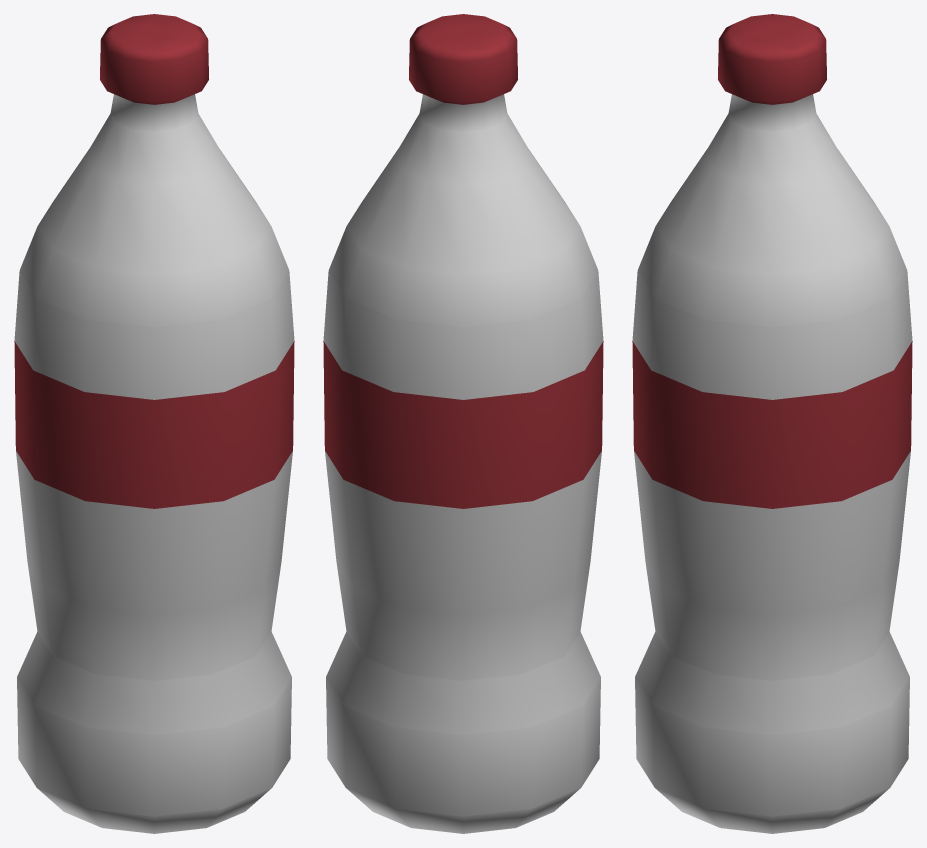
The model's file is CocaCola.fbx.
3 views of the same model, side by side, from view 1: azimuth 30°, elevation 25°; view 2: azimuth 150°, elevation 25°; view 3: azimuth 270°, elevation 25° (orthographic).
Visible parts, largest first — view 1: CocaLiquido; view 2: CocaLiquido; view 3: CocaLiquido.
Part boxes in pixels (<box>): CocaLiquido: <box>14,14,294,833</box>; CocaLiquido: <box>323,14,603,833</box>; CocaLiquido: <box>632,14,912,833</box>.
Size of the model in its own units: 0.2 by 0.6 by 0.2.
